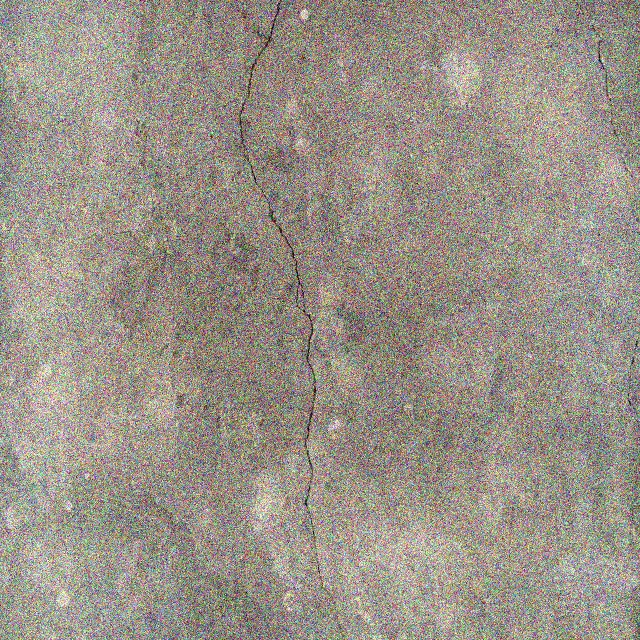SurfaceCrack: (206, 0, 375, 640), (543, 1, 640, 640)
